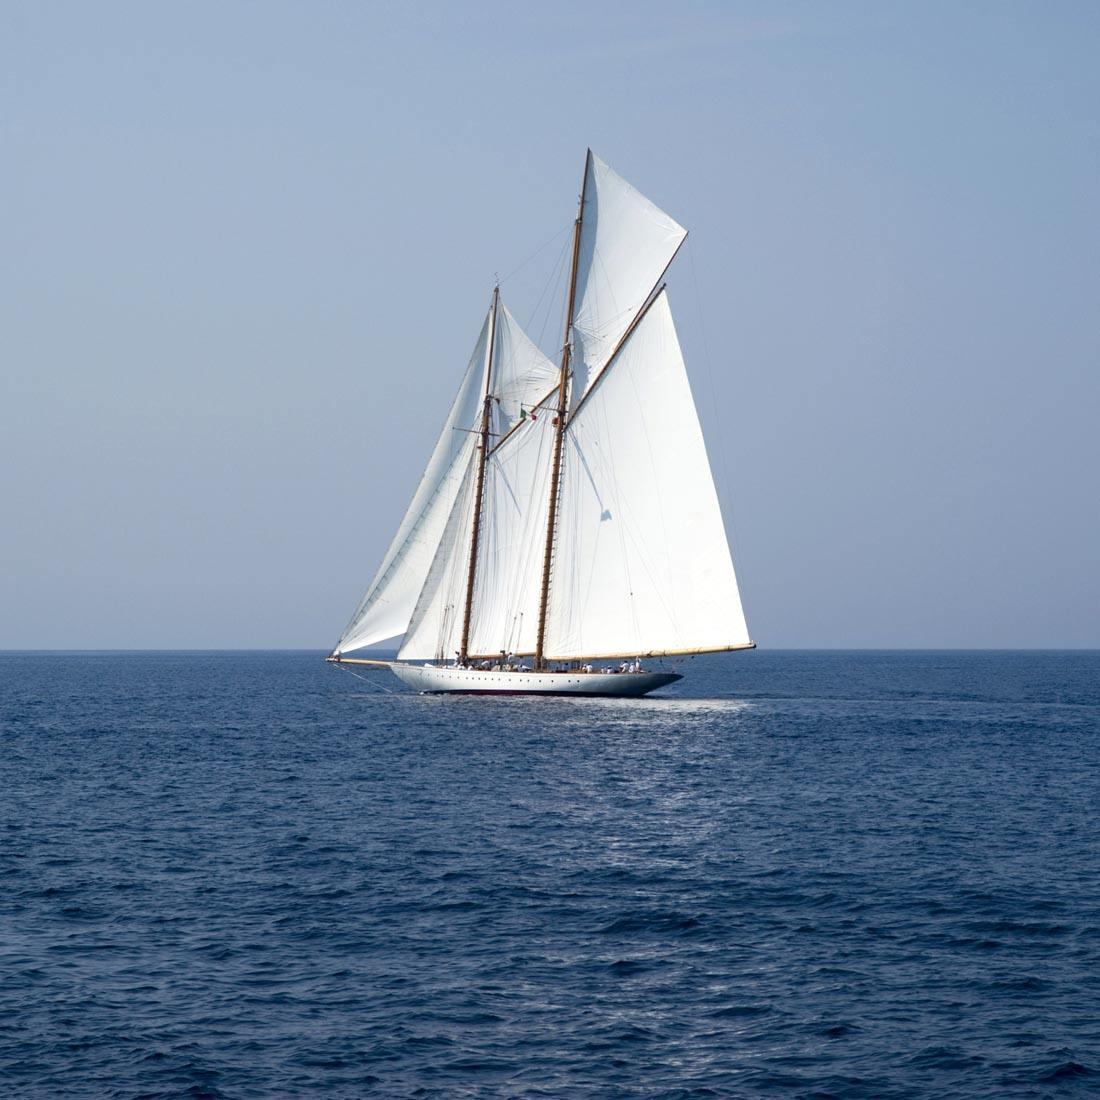fanchuan: (308, 147, 783, 713)
